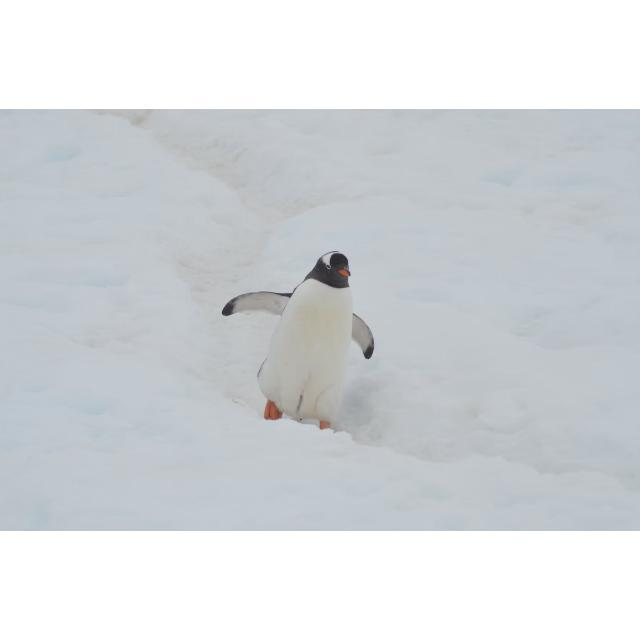penguin: (221, 249, 377, 431)
